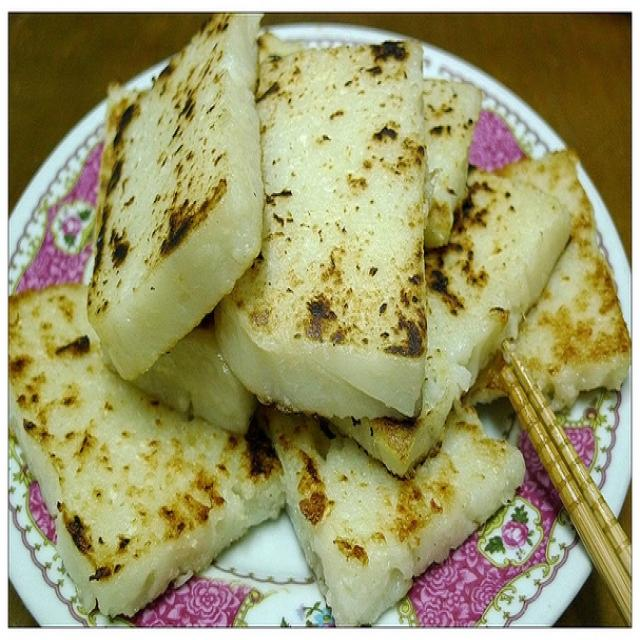蛋糕甜品: (29, 24, 610, 608)
